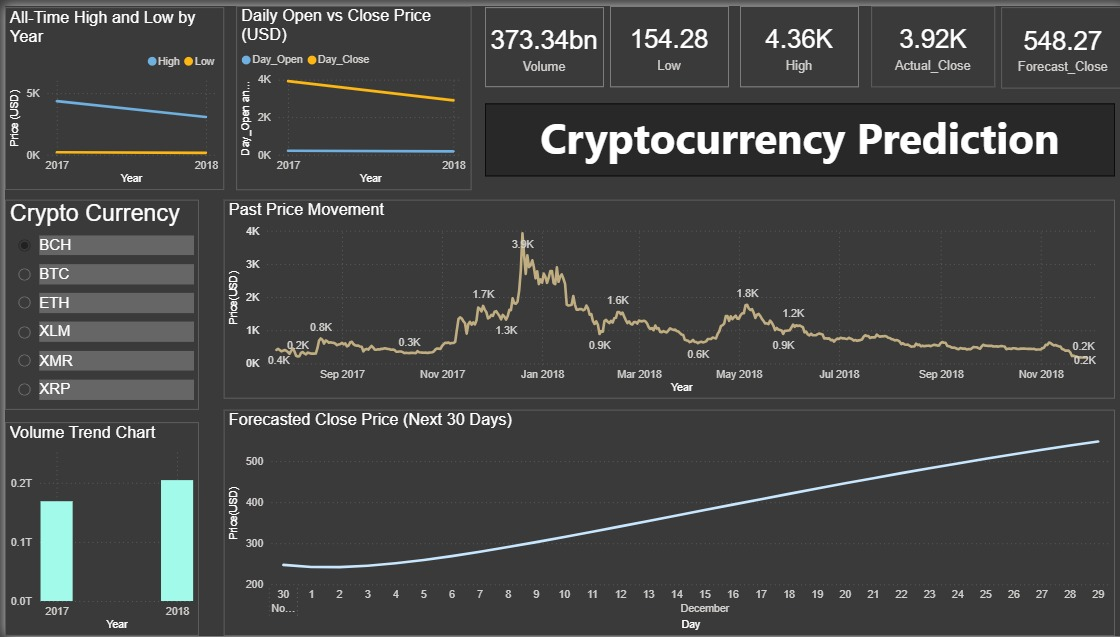

The page's visual inventory and layout, read from the dashboard file:
{"tool":"powerbi","page":{"name":"Page 1","canvas":[1280,720],"ordinal":0},"visuals":[{"type":"slicer","title":"Crypto Currency","fields":{"Values":["crypto_all_actual_forecast.symbol"]},"box":[0,221.4,221.4,240],"z":0},{"type":"card","fields":{"Values":["Max(crypto_all_actual_forecast.high)"]},"box":[840,0,135.7,92.9],"z":1000},{"type":"card","fields":{"Values":["Min(crypto_all_actual_forecast.low)"]},"box":[691.4,0,135.7,92.9],"z":2000},{"type":"card","fields":{"Values":["Sum(crypto_all_actual_forecast.volume)"]},"box":[548.6,1.4,135.7,91.4],"z":3000},{"type":"lineChart","title":"All-Time High and Low by Year","fields":{"Category":["crypto_all_actual_forecast.date.Variation.Date Hierarchy.Year","crypto_all_actual_forecast.date.Variation.Date Hierarchy.Quarter","crypto_all_actual_forecast.date.Variation.Date Hierarchy.Month","crypto_all_actual_forecast.date.Variation.Date Hierarchy.Day"],"Y":["Max(crypto_all_actual_forecast.high)","Min(crypto_all_actual_forecast.low)"]},"box":[0,1.4,250,208.6],"z":4000},{"type":"lineChart","title":"Daily Open vs Close Price (USD)","fields":{"Category":["crypto_all_actual_forecast.date.Variation.Date Hierarchy.Year","crypto_all_actual_forecast.date.Variation.Date Hierarchy.Quarter","crypto_all_actual_forecast.date.Variation.Date Hierarchy.Month","crypto_all_actual_forecast.date.Variation.Date Hierarchy.Day"],"Y":["crypto_all_actual_forecast.Actual_Open","crypto_all_actual_forecast.Actual_Close"]},"box":[264.3,0,268.6,210],"z":5000},{"type":"areaChart","title":"Past Price Movement","fields":{"Y":["crypto_all_actual_forecast.Actual_Close"],"Category":["crypto_all_actual_forecast.date.Variation.Date Hierarchy.Year","crypto_all_actual_forecast.date.Variation.Date Hierarchy.Month","crypto_all_actual_forecast.date.Variation.Date Hierarchy.Day"]},"box":[250,221.4,1018.6,227.1],"z":6000},{"type":"card","fields":{"Values":["crypto_all_actual_forecast.Actual_Close"]},"box":[990,0,141.4,92.9],"z":7000},{"type":"card","fields":{"Values":["crypto_all_actual_forecast.Forecast_Close"]},"box":[1138.6,1.4,141.4,92.9],"z":8000},{"type":"lineChart","title":"Forecasted Close Price (Next 30 Days)","fields":{"Y":["crypto_all_actual_forecast.Forecast_Close"],"Category":["crypto_all_actual_forecast.date.Variation.Date Hierarchy.Month","crypto_all_actual_forecast.date.Variation.Date Hierarchy.Day"]},"box":[250,461.4,1018.6,258.6],"z":9000},{"type":"clusteredColumnChart","title":"Volume Trend Chart","fields":{"Y":["Sum(crypto_all_actual_forecast.volume)"],"Category":["crypto_all_actual_forecast.date.Variation.Date Hierarchy.Year"]},"box":[0,475.7,221.4,244.3],"z":10000},{"type":"textbox","box":[548.6,111.4,720,82.9],"z":11000}]}

Visuals, with their boxes in screenshot pixels (x1, y1, x2, y2), scaled from the page's 1280x720 canvas onto the 1120x637 screenshot:
"Crypto Currency" slicer: (0,196,194,408)
card - Max(crypto_all_actual_forecast.high): (735,0,854,82)
card - Min(crypto_all_actual_forecast.low): (605,0,724,82)
card - Sum(crypto_all_actual_forecast.volume): (480,1,599,82)
"All-Time High and Low by Year" lineChart: (0,1,219,186)
"Daily Open vs Close Price (USD)" lineChart: (231,0,466,186)
"Past Price Movement" areaChart: (219,196,1110,397)
card - crypto_all_actual_forecast.Actual_Close: (866,0,990,82)
card - crypto_all_actual_forecast.Forecast_Close: (996,1,1119,83)
"Forecasted Close Price (Next 30 Days)" lineChart: (219,408,1110,636)
"Volume Trend Chart" clusteredColumnChart: (0,421,194,636)
textbox: (480,99,1110,172)
